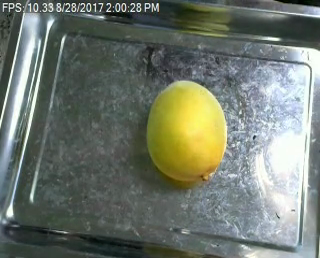Mango: (142, 80, 232, 184)
